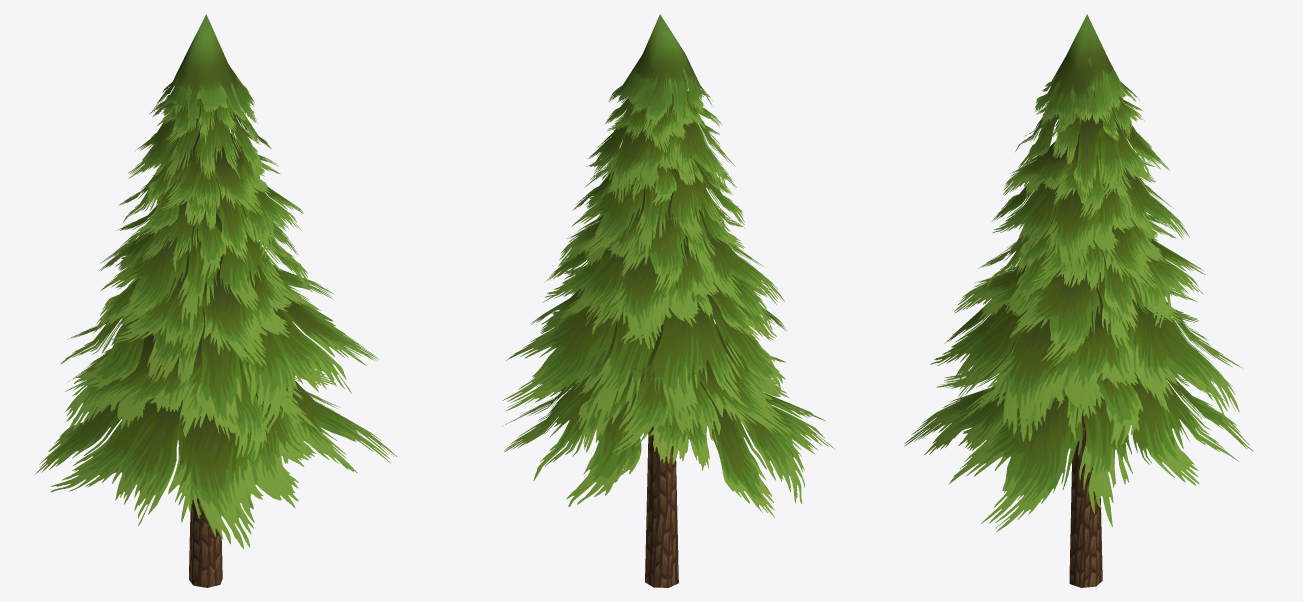
Rendered from spruce1_LOD0.fbx.
The picture shows the model from 3 angles, left to right: view 1: azimuth 30°, elevation 25°; view 2: azimuth 150°, elevation 25°; view 3: azimuth 270°, elevation 25°; orthographic projection.
Visible parts, largest first — view 1: spruce1_LOD0; view 2: spruce1_LOD0; view 3: spruce1_LOD0.
Part boxes in pixels (x1,y1,x2,y2): spruce1_LOD0: (34,14,396,587); spruce1_LOD0: (501,14,835,587); spruce1_LOD0: (904,14,1253,587).
Bounding box in the file's own units: 453 × 705 × 460.
